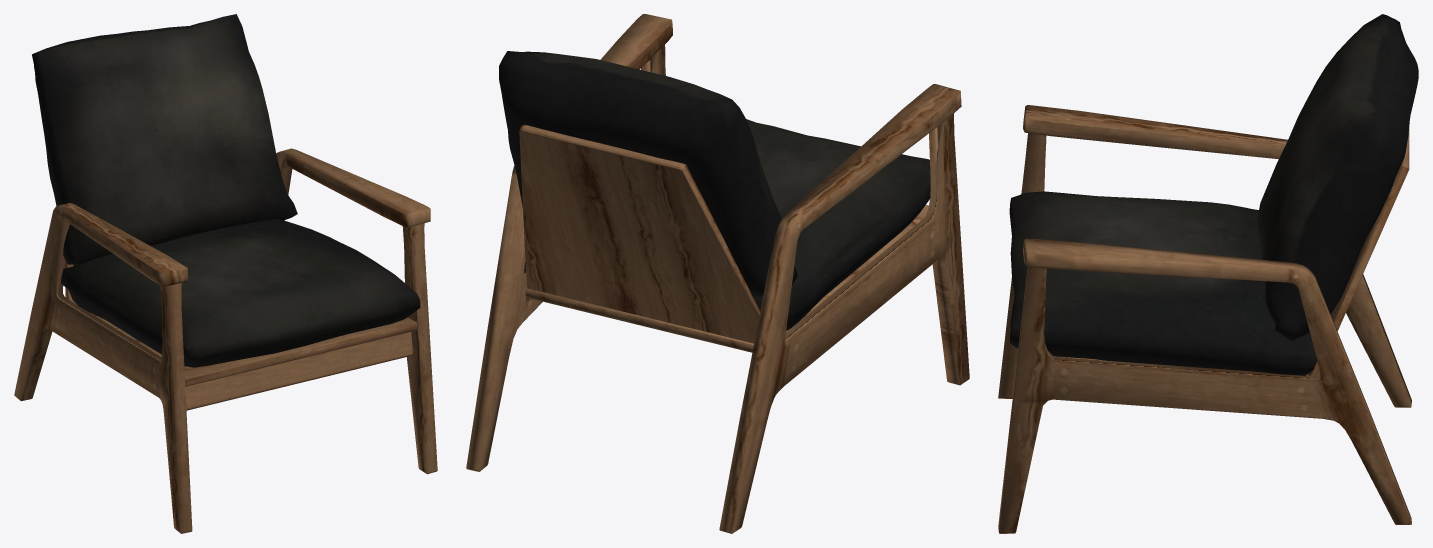
File: modern_arm_chair_01.glb
3 renders of one model, left to right at view 1: azimuth 30°, elevation 25°; view 2: azimuth 150°, elevation 25°; view 3: azimuth 270°, elevation 25°, orthographic. The views are drawn at different scales.
Parts seen in each view (by area): view 1: modern_arm_chair_01; view 2: modern_arm_chair_01; view 3: modern_arm_chair_01.
Boxes of the visible parts, bbox=[...] form: modern_arm_chair_01: bbox=[14, 14, 437, 533]; modern_arm_chair_01: bbox=[466, 14, 969, 533]; modern_arm_chair_01: bbox=[998, 14, 1418, 533].
Size of the model in its own units: 0.8203 by 1.02 by 0.9863.
2 materials, 2 textured.
